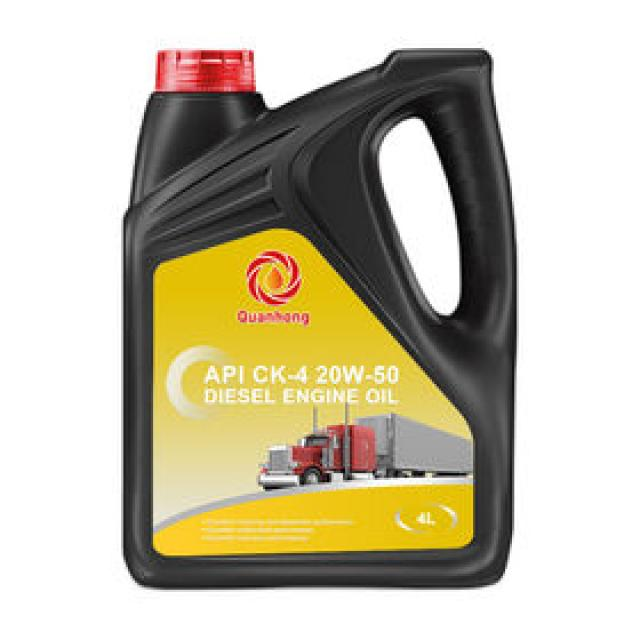motor_oil: (116, 38, 516, 596)
